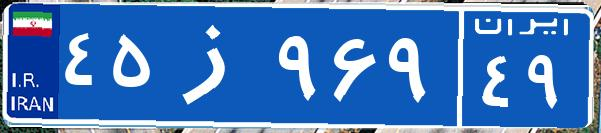4: (57, 26, 110, 107), (475, 38, 525, 113)
5: (110, 28, 158, 105)
6: (330, 28, 385, 110)
9: (385, 28, 445, 110), (273, 28, 330, 110), (525, 38, 570, 115)
ز: (158, 15, 273, 115)
